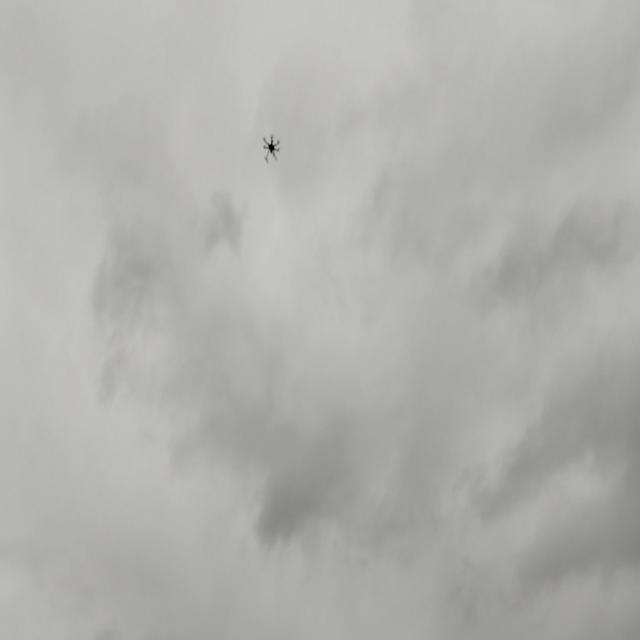drone: (260, 130, 283, 166)
